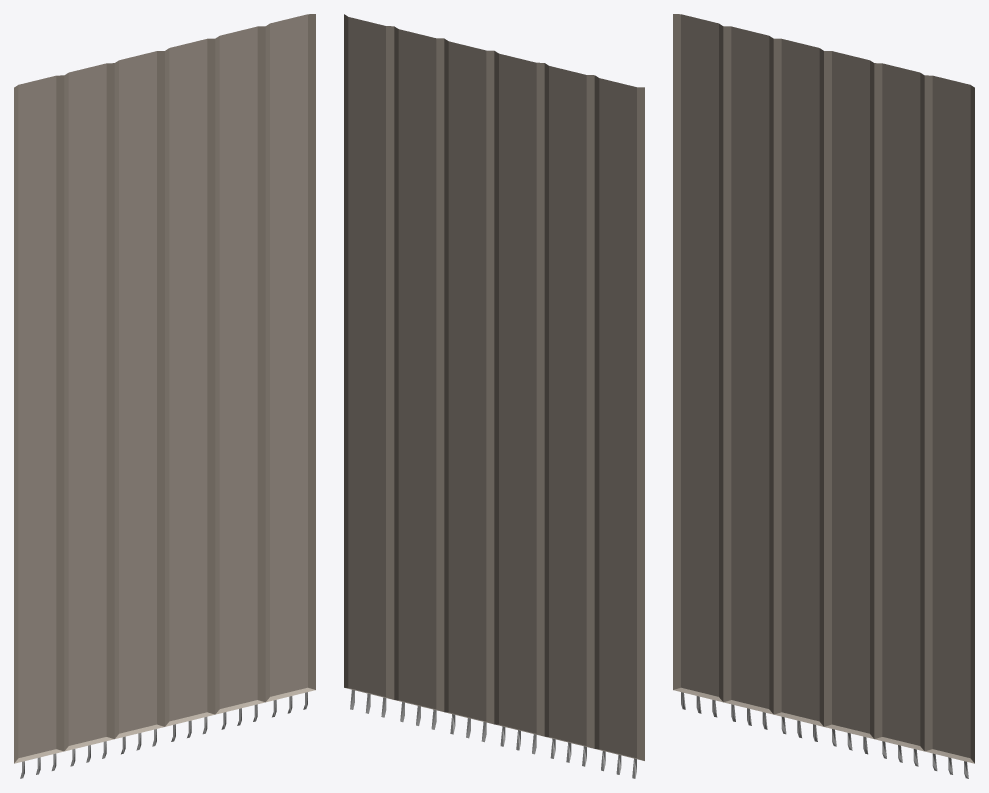
The model's file is brdr2.obj.
3 views of the same model, side by side, from view 1: azimuth 30°, elevation 25°; view 2: azimuth 150°, elevation 25°; view 3: azimuth 330°, elevation 25° (orthographic).
Bounding box in the file's own units: 4800 × 10550 × 50.
